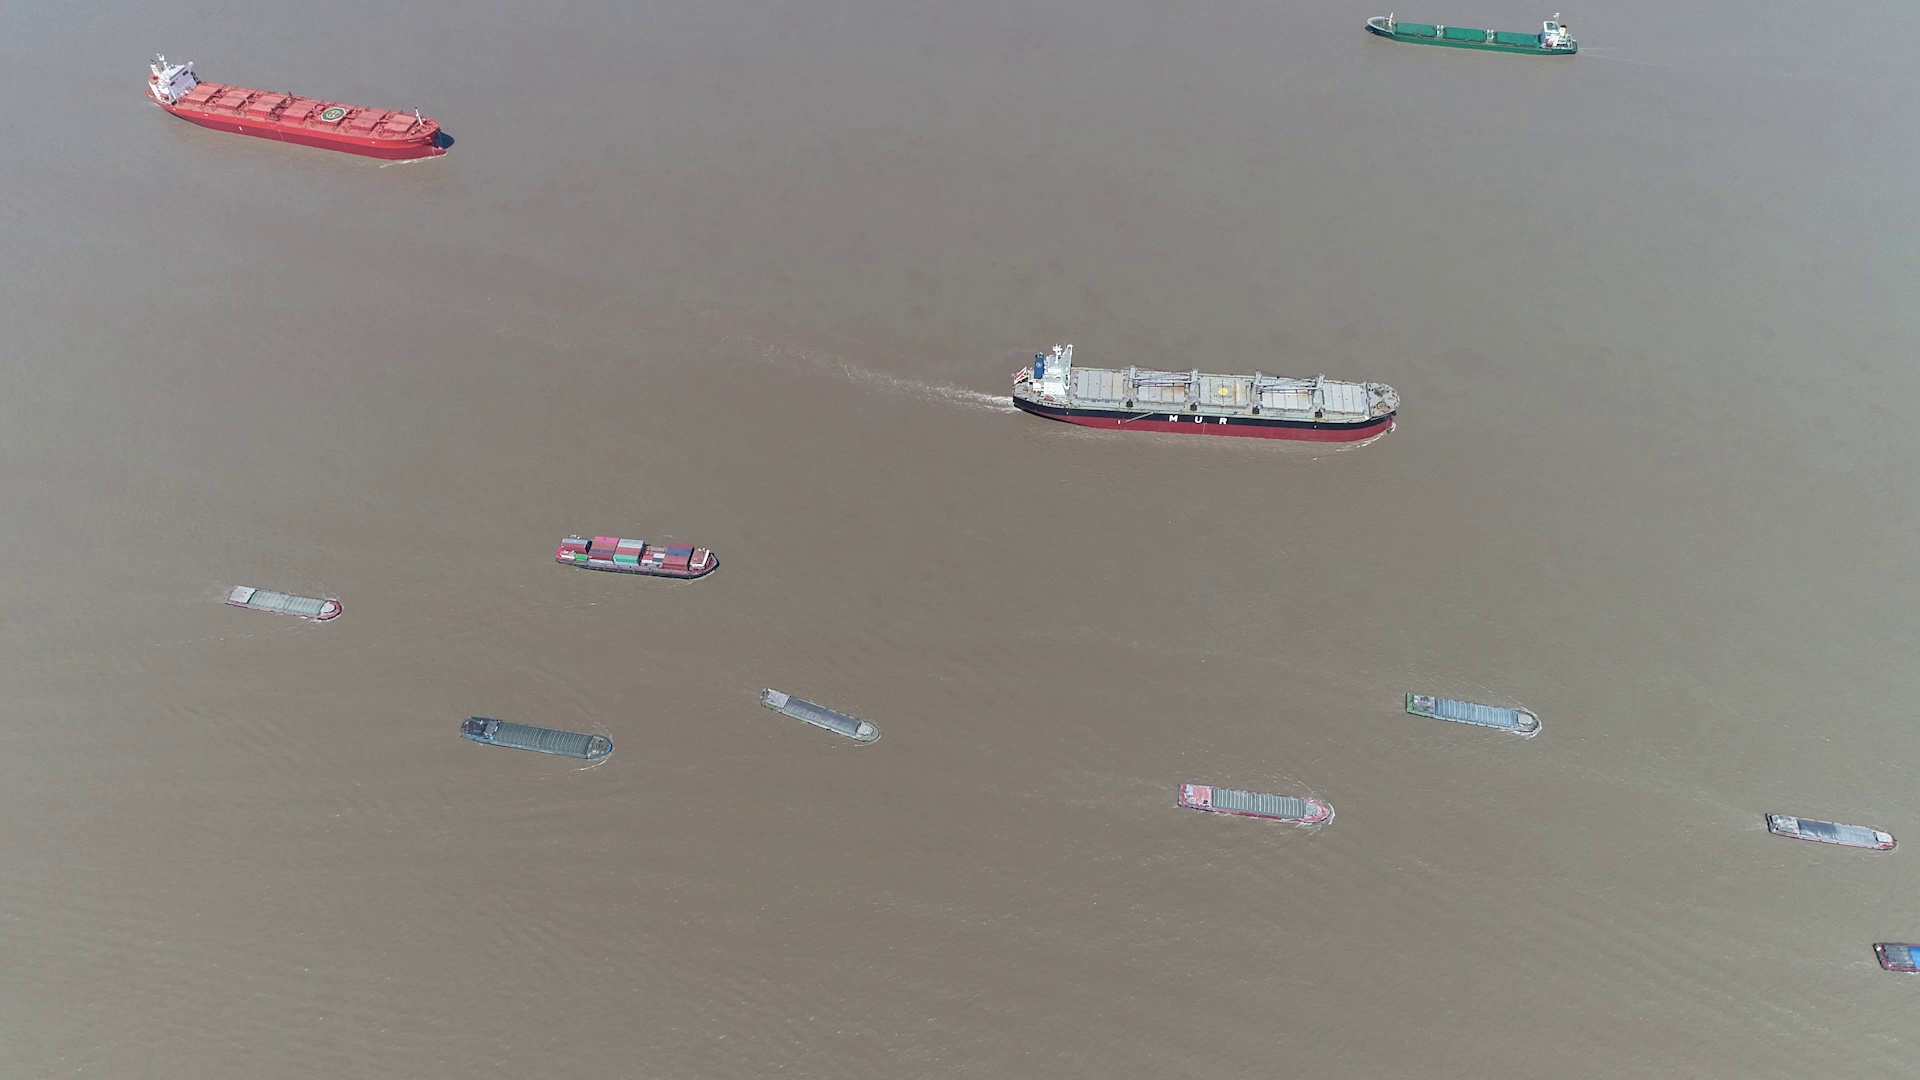ship: (1009, 349, 1400, 443), (152, 51, 448, 158), (1361, 15, 1581, 55), (556, 535, 719, 579), (462, 716, 612, 760), (764, 690, 881, 745), (1178, 783, 1336, 824), (1402, 692, 1539, 735), (1766, 812, 1896, 851), (225, 585, 344, 621), (1873, 943, 1917, 975)
